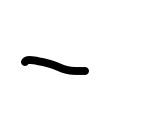minus: (20, 53, 87, 81)
